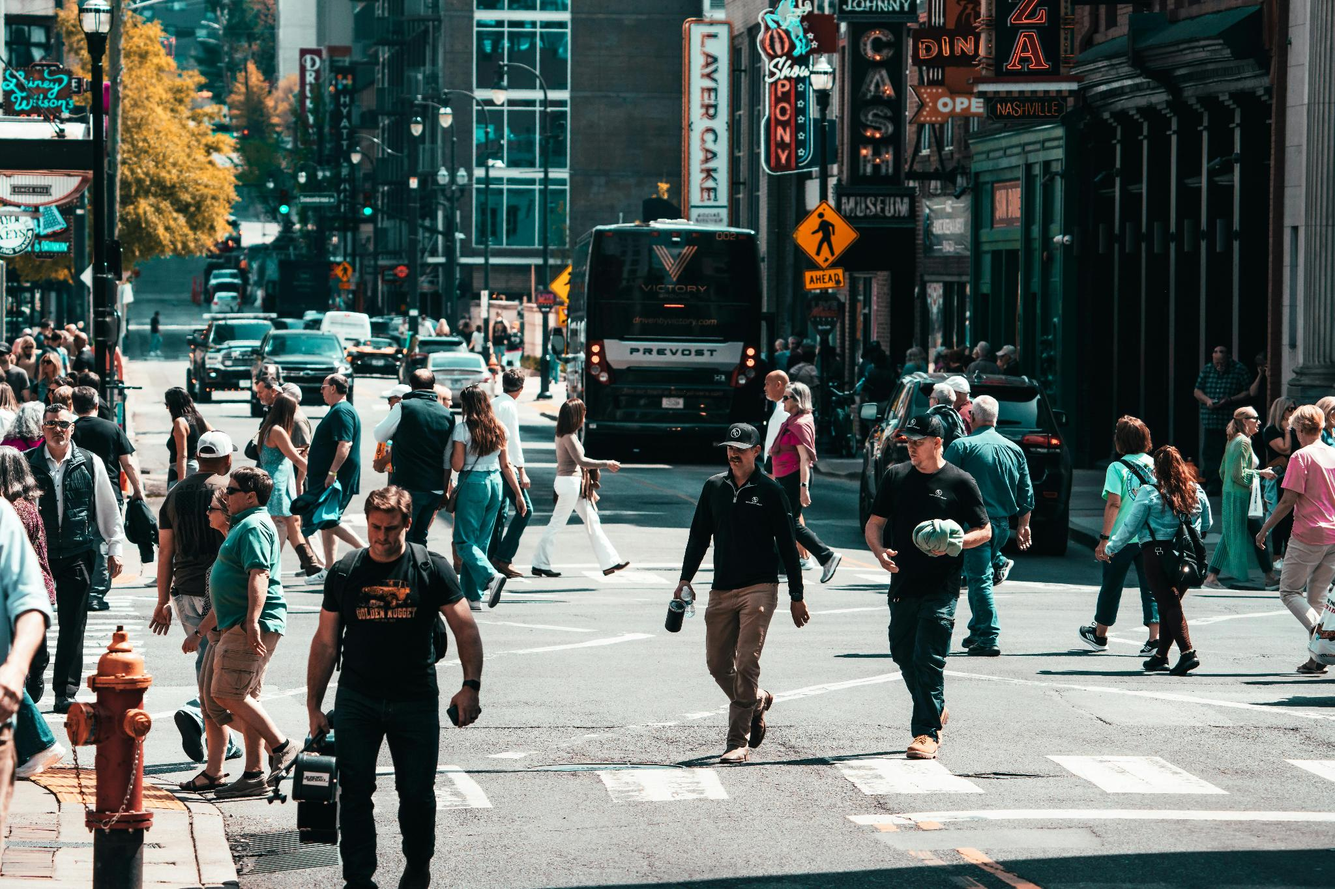car: (184, 323, 273, 406), (256, 332, 351, 406), (424, 355, 490, 396), (354, 345, 411, 382)
pedestrian: (298, 482, 478, 883), (668, 429, 825, 770), (864, 434, 997, 766), (184, 471, 300, 796), (1087, 418, 1213, 679), (16, 419, 121, 705), (949, 396, 1039, 657), (0, 459, 58, 856), (442, 384, 533, 612), (1252, 409, 1327, 683), (531, 401, 632, 582), (161, 434, 237, 643), (376, 379, 462, 550), (293, 376, 361, 574), (1216, 404, 1265, 584), (757, 370, 817, 508)
